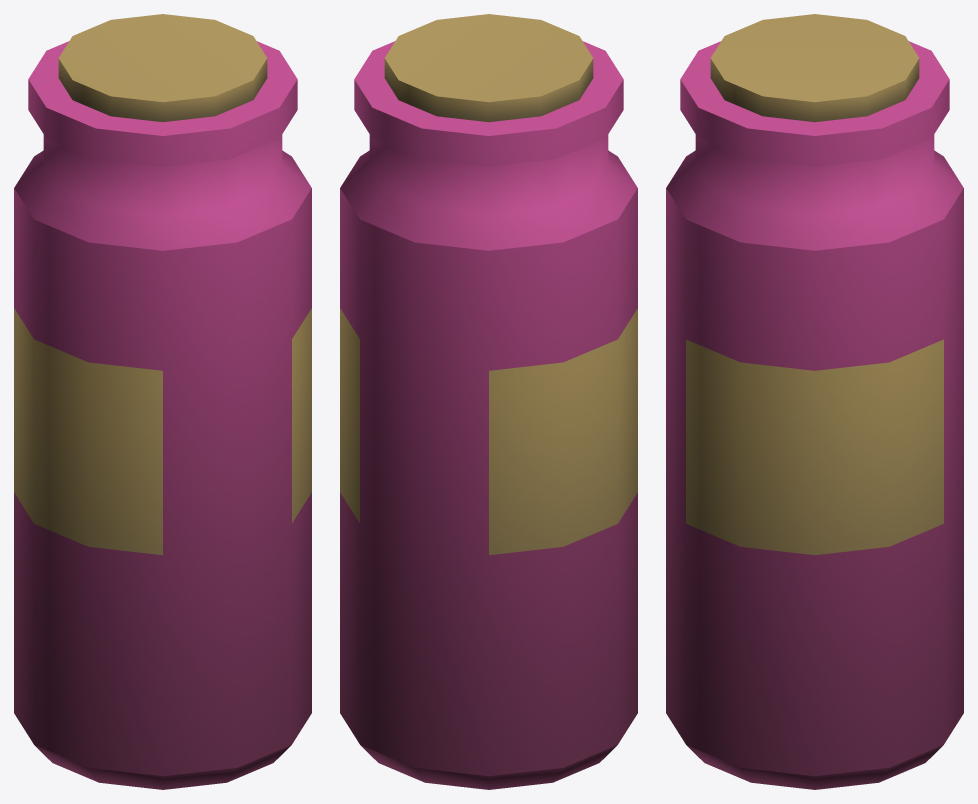
File: Bottle_2.FBX
The picture shows the model from 3 angles, left to right: view 1: azimuth 30°, elevation 25°; view 2: azimuth 150°, elevation 25°; view 3: azimuth 270°, elevation 25°; orthographic projection.
Visible parts, largest first — view 1: Bottle_2; view 2: Bottle_2; view 3: Bottle_2.
Boxes of the visible parts, x1,y1,x2,y2 form: Bottle_2: [14, 14, 311, 789]; Bottle_2: [340, 14, 637, 789]; Bottle_2: [666, 14, 963, 789].
Size of the model in its own units: 4.65 by 11.67 by 4.65.
1 material, 1 textured.
